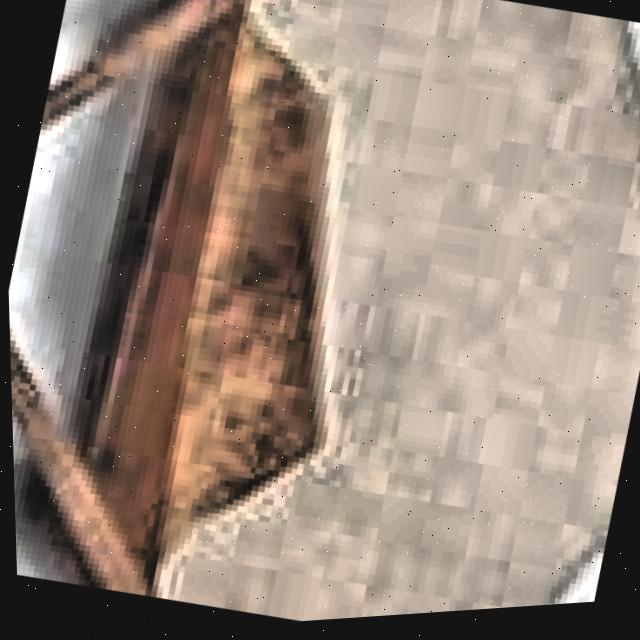paper: (7, 0, 640, 625)
